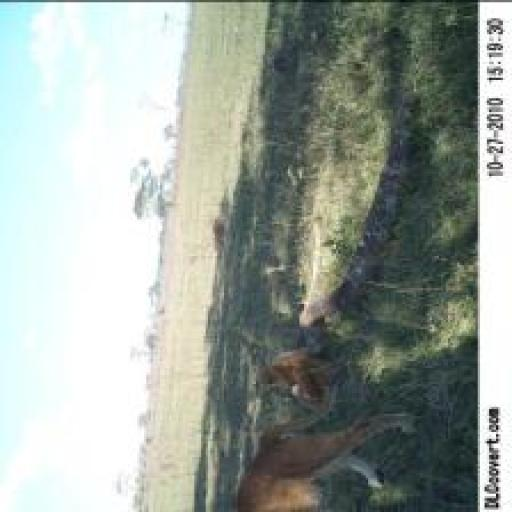lion: (220, 400, 442, 506), (260, 329, 359, 405)
